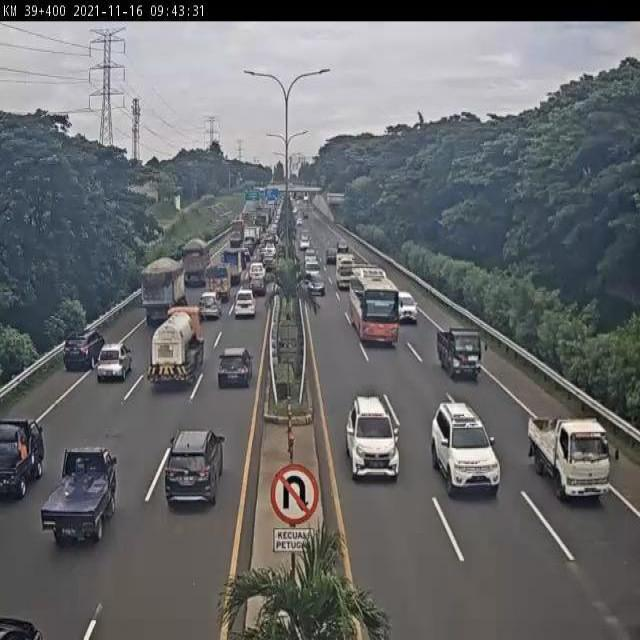big bus: (349, 267, 403, 349)
car: (527, 416, 620, 504), (41, 444, 119, 545), (430, 402, 501, 498), (163, 428, 224, 511), (346, 393, 401, 484), (0, 418, 45, 502), (437, 328, 489, 384), (63, 325, 110, 372), (217, 345, 255, 392), (93, 340, 132, 381), (394, 289, 420, 324), (233, 292, 256, 323), (196, 293, 219, 323), (249, 274, 267, 302)
small truck: (203, 264, 230, 301)
truck-m-: (145, 305, 203, 395), (137, 256, 187, 332), (180, 239, 211, 288)
